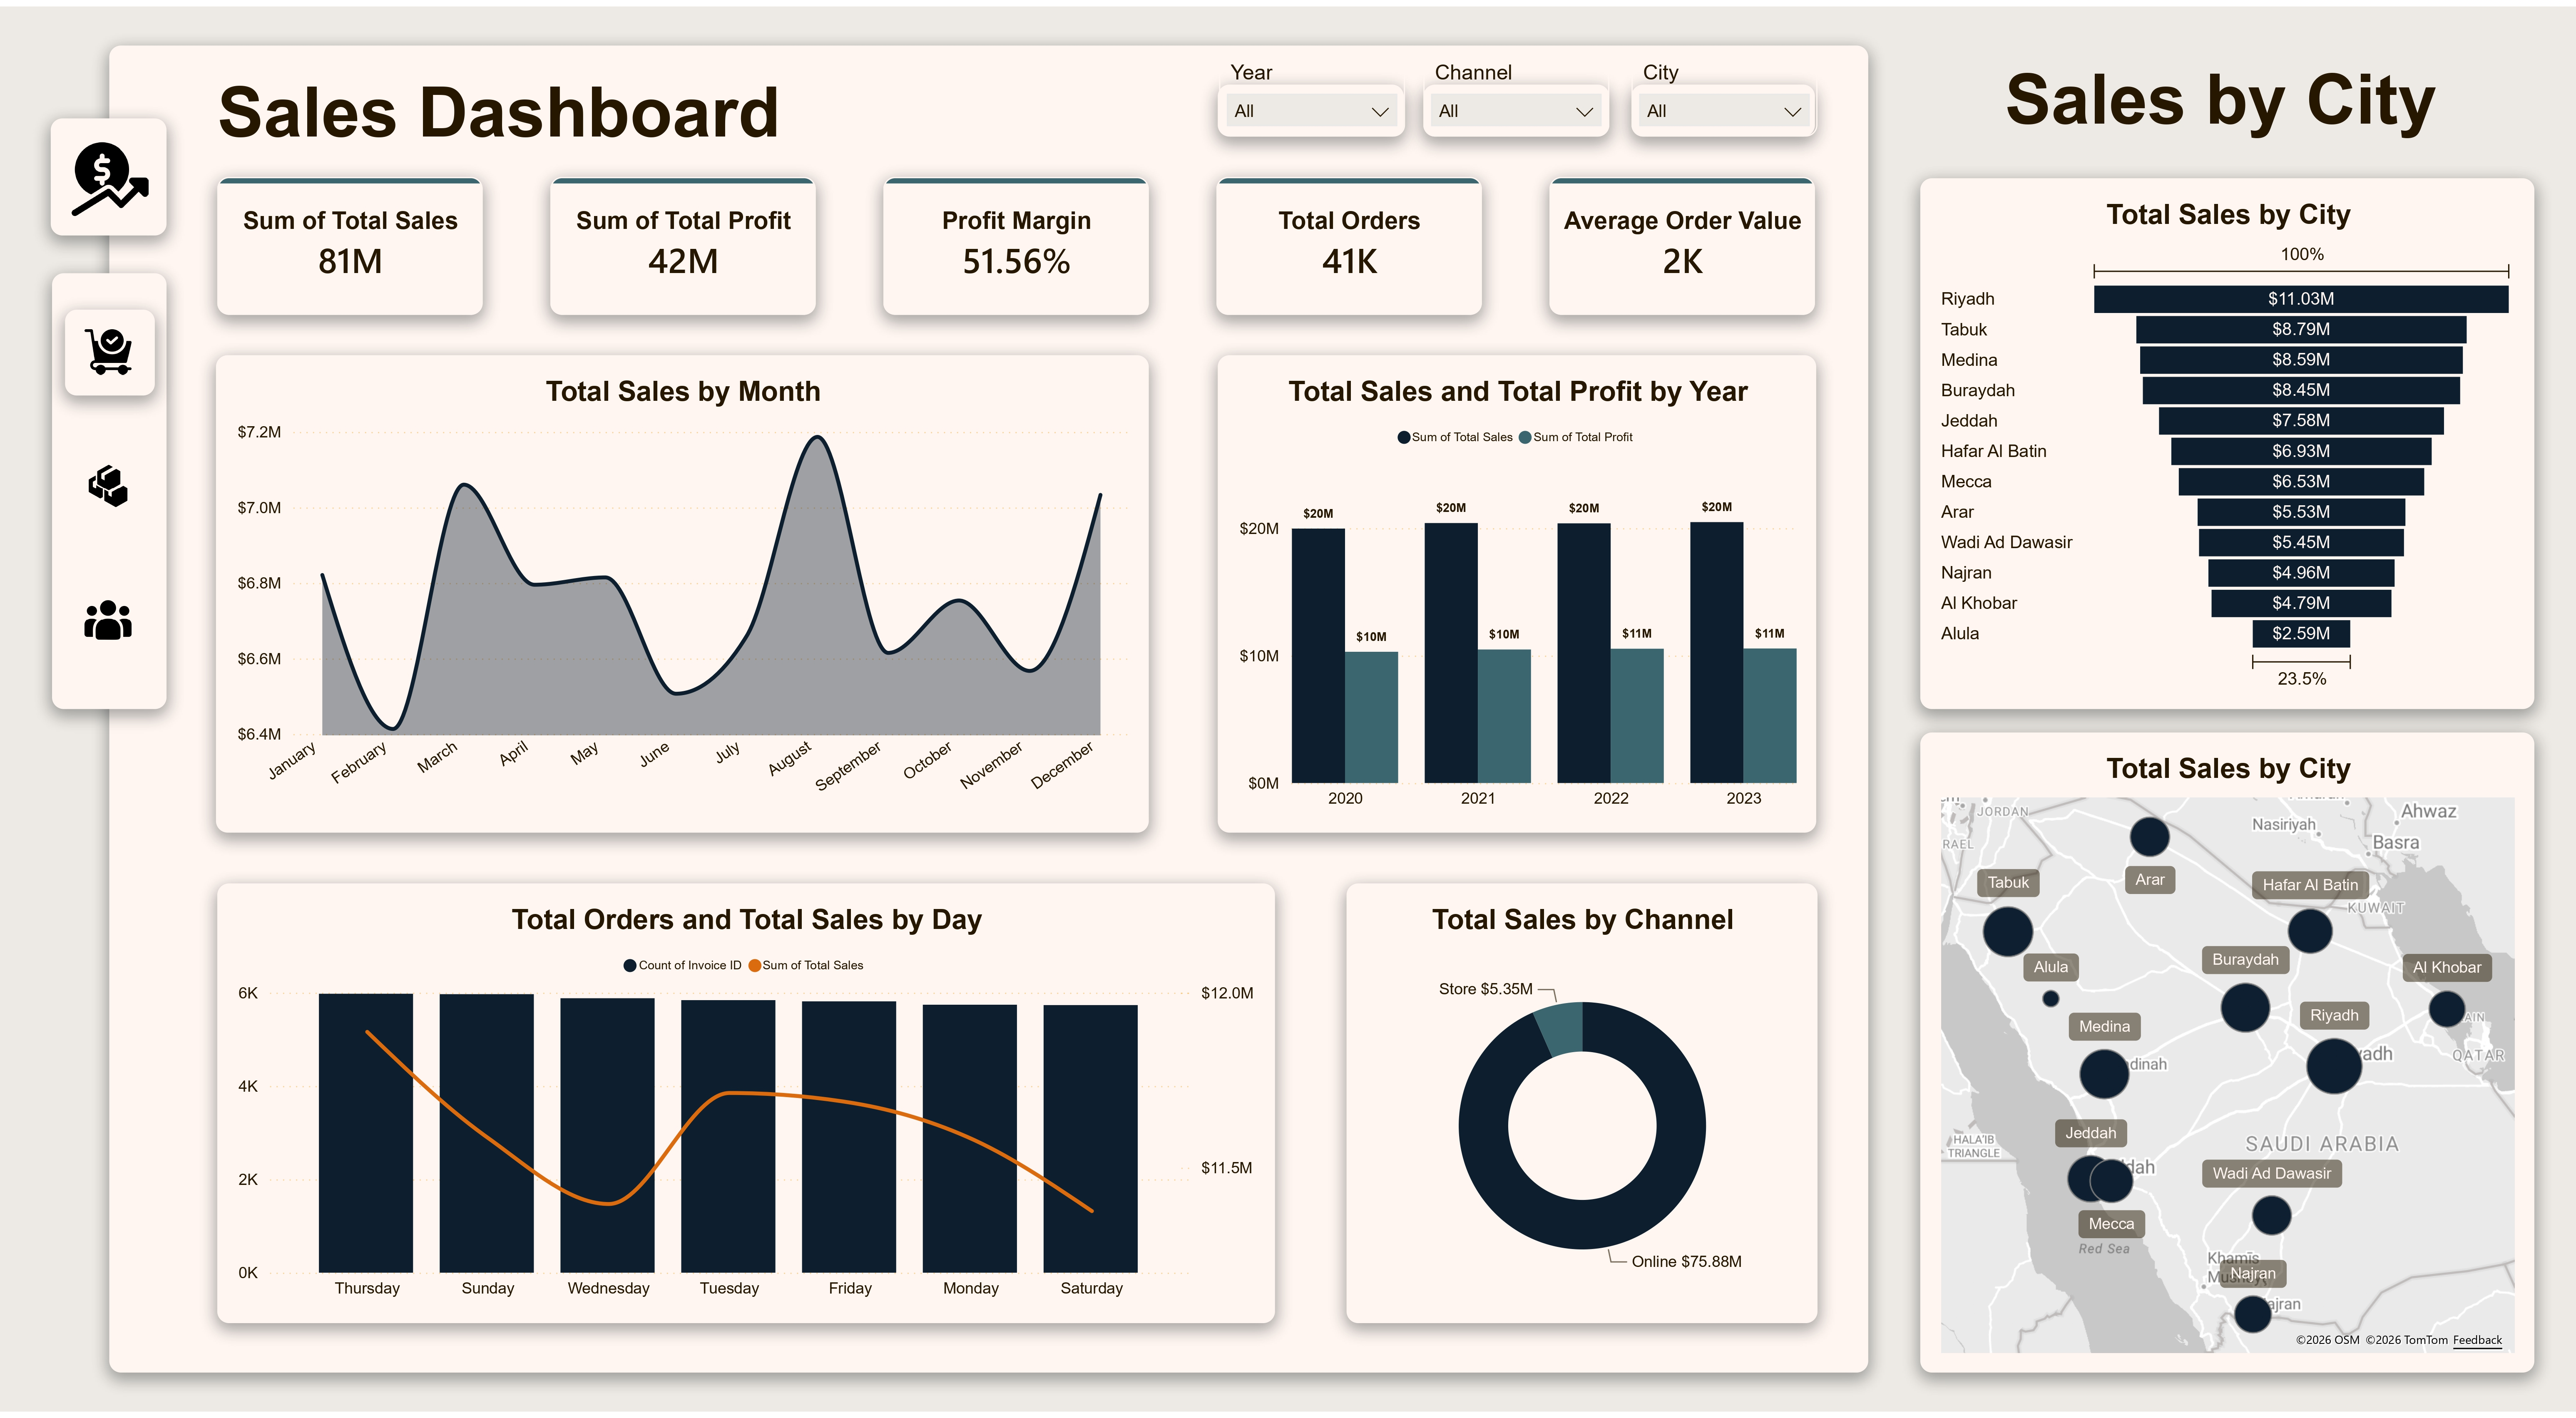

This screenshot's page, from the dashboard's own definition file:
{"tool":"powerbi","page":{"name":"Sales Dashboard","canvas":[1980,1080],"ordinal":0},"visuals":[{"type":"shape","box":[84,30,1352,1020],"z":0},{"type":"shape","box":[39.4,86.4,88.9,90.2],"z":1000},{"type":"shape","box":[40,205.5,88.1,334.9],"z":2000},{"type":"shape","box":[935.7,60,142.9,40],"z":3000},{"type":"shape","box":[1254.3,60,141.4,40],"z":4000},{"type":"funnel","title":"Total Sales by City","fields":{"Category":["Sales Database.City"],"Y":["Sum(Sales Database.Total Sales)"]},"box":[1475.7,132.1,472.3,408.3],"z":5000},{"type":"areaChart","title":"Total Sales by Month","fields":{"Category":["Sales Database.Invoice Date.Variation.Date Hierarchy.Month"],"Y":["Sum(Sales Database.Total Sales)"]},"box":[166.4,268.1,716.6,367.2],"z":6000},{"type":"clusteredColumnChart","title":"Total Sales and Total Profit by Year","fields":{"Category":["Sales Database.Invoice Date.Variation.Date Hierarchy.Year"],"Y":["Sum(Sales Database.Total Sales)","Sum(Sales Database.Total Profit)"]},"box":[936.4,268.1,460,367.2],"z":7000},{"type":"donutChart","title":"Total Sales by Channel","fields":{"Category":["Sales Database.Channel"],"Y":["Sum(Sales Database.Total Sales)"]},"box":[1035.4,673.8,361.6,337.6],"z":8000},{"type":"lineClusteredColumnComboChart","title":"Total Orders and Total Sales by Day","fields":{"Category":["Sales Database.Day Name"],"Y":["Count(Sales Database.Invoice ID)"],"Y2":["Sum(Sales Database.Total Sales)"]},"box":[166.8,673.8,812.5,337.6],"z":9000},{"type":"cardVisual","fields":{"Data":["Sum(Sales Database.Total Sales)"]},"box":[167.1,131.4,204.3,105.7],"z":10000},{"type":"cardVisual","fields":{"Data":["Meashers.Average Order Value"]},"box":[1191.4,131.4,204.3,105.7],"z":11000},{"type":"cardVisual","fields":{"Data":["Sum(Sales Database.Total Profit)"]},"box":[423.2,131.4,204.3,105.7],"z":12000},{"type":"cardVisual","fields":{"Data":["Meashers.Profit Margin"]},"box":[679.3,131.4,204.3,105.7],"z":13000},{"type":"cardVisual","fields":{"Data":["Meashers.Total Orders"]},"box":[935.4,131.4,204.3,105.7],"z":14000},{"type":"azureMap","title":"Total Sales by City","fields":{"Category":["Sales Database.City"],"Size":["Sum(Sales Database.Total Sales)"]},"box":[1475.7,557.7,472.3,492.3],"z":21000},{"type":"image","box":[40,87.1,88.6,88.6],"z":22000},{"type":"shape","box":[50,232.9,68.6,65.7],"z":23000},{"type":"image","box":[49.4,233.5,68,65.4],"z":24000},{"type":"image","box":[49.4,336.2,68,65.4],"z":25000},{"type":"image","box":[49.4,439,68,65.4],"z":26000},{"type":"shape","box":[1094.1,60,142.8,40],"z":27000},{"type":"slicer","fields":{"Values":["Sales Database.City"]},"box":[1254.2,41.4,142.8,58.7],"z":28000},{"type":"slicer","fields":{"Values":["Sales Database.Invoice Date.Variation.Date Hierarchy.Year"]},"box":[936.6,41.4,142.8,58.7],"z":29000},{"type":"slicer","fields":{"Values":["Sales Database.Channel"]},"box":[1094.1,41.4,142.8,58.7],"z":30000},{"type":"textbox","box":[166.8,50.7,460.3,72],"z":31000},{"type":"textbox","box":[1541,41.4,340.2,65.4],"z":32000}]}

Visuals, with their boxes in screenshot pixels (x1, y1, x2, y2), scaled from the page's 1980x1080 canvas onto the 2576x1418 screenshot:
shape: <bbox>109, 40, 1868, 1378</bbox>
shape: <bbox>51, 114, 167, 232</bbox>
shape: <bbox>52, 270, 167, 710</bbox>
shape: <bbox>1217, 79, 1403, 131</bbox>
shape: <bbox>1632, 79, 1816, 131</bbox>
"Total Sales by City" funnel: <bbox>1920, 174, 2534, 710</bbox>
"Total Sales by Month" areaChart: <bbox>216, 352, 1149, 834</bbox>
"Total Sales and Total Profit by Year" clusteredColumnChart: <bbox>1218, 352, 1817, 834</bbox>
"Total Sales by Channel" donutChart: <bbox>1347, 885, 1818, 1328</bbox>
"Total Orders and Total Sales by Day" lineClusteredColumnComboChart: <bbox>217, 885, 1274, 1328</bbox>
cardVisual - Sum(Sales Database.Total Sales): <bbox>217, 173, 483, 311</bbox>
cardVisual - Meashers.Average Order Value: <bbox>1550, 173, 1816, 311</bbox>
cardVisual - Sum(Sales Database.Total Profit): <bbox>551, 173, 816, 311</bbox>
cardVisual - Meashers.Profit Margin: <bbox>884, 173, 1149, 311</bbox>
cardVisual - Meashers.Total Orders: <bbox>1217, 173, 1483, 311</bbox>
"Total Sales by City" azureMap: <bbox>1920, 732, 2534, 1378</bbox>
image: <bbox>52, 114, 167, 231</bbox>
shape: <bbox>65, 306, 154, 392</bbox>
image: <bbox>64, 307, 153, 392</bbox>
image: <bbox>64, 442, 153, 527</bbox>
image: <bbox>64, 576, 153, 662</bbox>
shape: <bbox>1423, 79, 1609, 131</bbox>
slicer - Sales Database.City: <bbox>1632, 55, 1818, 132</bbox>
slicer - Sales Database.Invoice Date.Variation.Date Hierarchy.Year: <bbox>1218, 55, 1404, 132</bbox>
slicer - Sales Database.Channel: <bbox>1423, 55, 1609, 132</bbox>
textbox: <bbox>217, 67, 816, 161</bbox>
textbox: <bbox>2005, 55, 2447, 140</bbox>
